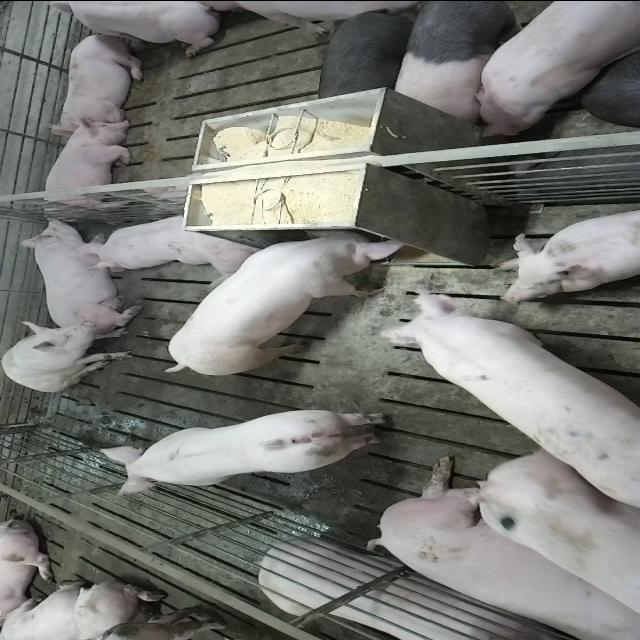Feeding: (163, 220, 414, 370)
Lateral_lying: (258, 536, 574, 640)
Sitting: (2, 321, 136, 392)
Standing: (378, 278, 640, 542), (406, 447, 640, 636), (105, 406, 397, 494), (470, 2, 640, 138), (385, 2, 534, 123), (316, 4, 424, 104)
Sternal_lying: (495, 203, 640, 300), (12, 216, 139, 326), (78, 210, 258, 274), (34, 2, 224, 56), (37, 116, 138, 215), (52, 30, 150, 130)
